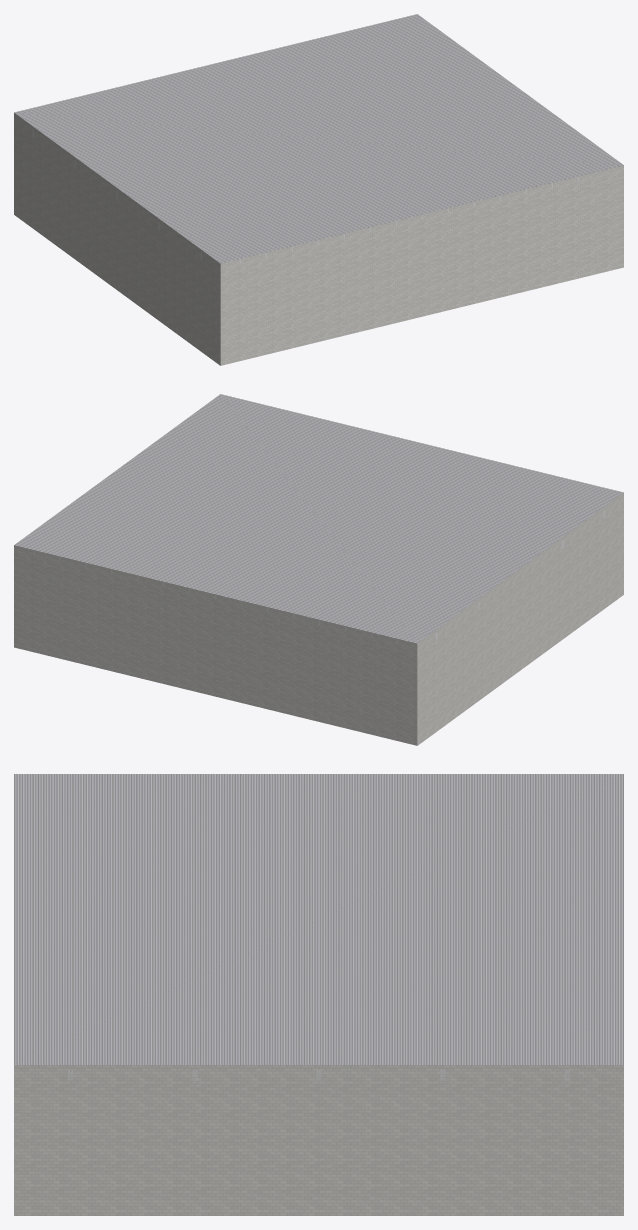
File: gym_small.glb
The picture shows the model from 3 angles, top to bottom: view 1: azimuth 30°, elevation 25°; view 2: azimuth 150°, elevation 25°; view 3: azimuth 270°, elevation 25°; orthographic projection. The views are drawn at different scales.
Parts seen in each view (by area): view 1: M_Roof, M_Wall_CMU; view 2: M_Roof, M_Wall_CMU; view 3: M_Roof, M_Wall_CMU.
Boxes of the visible parts, bbox=[...] form: M_Roof: bbox=[14, 14, 623, 263]; M_Wall_CMU: bbox=[14, 113, 623, 365]; M_Roof: bbox=[14, 394, 623, 643]; M_Wall_CMU: bbox=[14, 493, 623, 745]; M_Roof: bbox=[14, 774, 623, 1064]; M_Wall_CMU: bbox=[14, 1065, 623, 1215].
Bounding box in the file's own units: 38.8 × 9.4 × 34.4.
19 materials, 5 textured.
